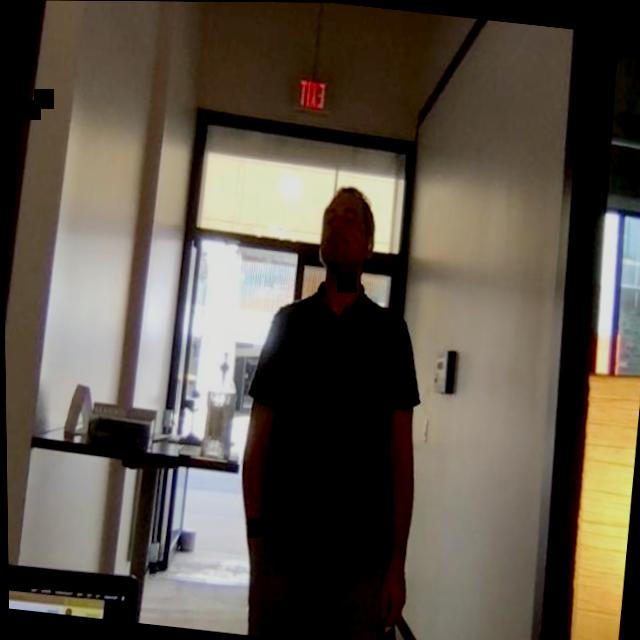NO-Mask: (315, 185, 378, 278)
